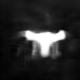plane: (18, 27, 72, 59)
